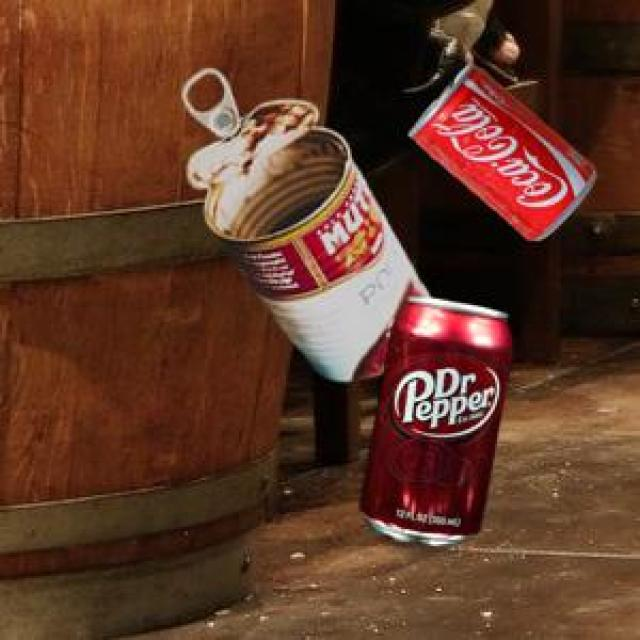logam: (178, 65, 428, 379), (357, 293, 509, 543), (406, 61, 592, 238)
